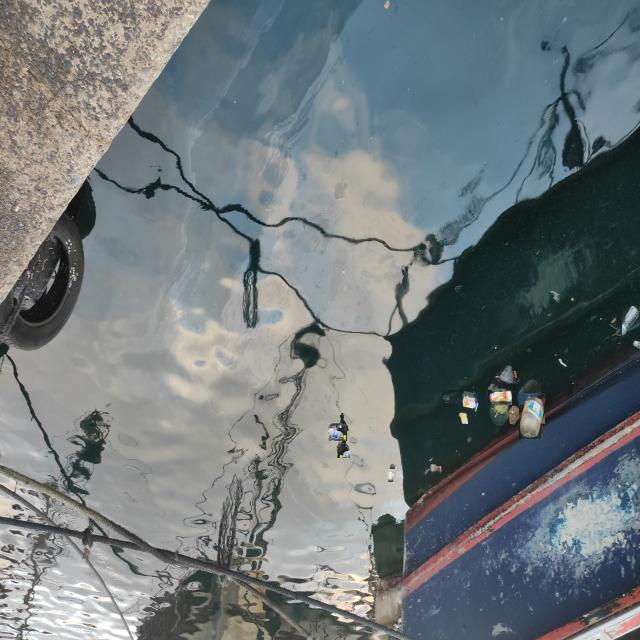Juice box: (462, 394, 479, 414)
Plastic: (442, 390, 460, 403), (549, 289, 560, 304), (558, 358, 568, 368), (466, 432, 473, 444)
Plastic bag: (488, 363, 520, 391), (488, 403, 509, 428), (336, 431, 350, 458)
Plastic bottle: (519, 393, 545, 439), (622, 304, 640, 337), (488, 390, 512, 405), (328, 428, 347, 441), (330, 422, 342, 433), (387, 469, 396, 482)
Plastic cup: (430, 462, 443, 474), (632, 339, 640, 350)
Plastic packaging: (458, 411, 468, 426)
